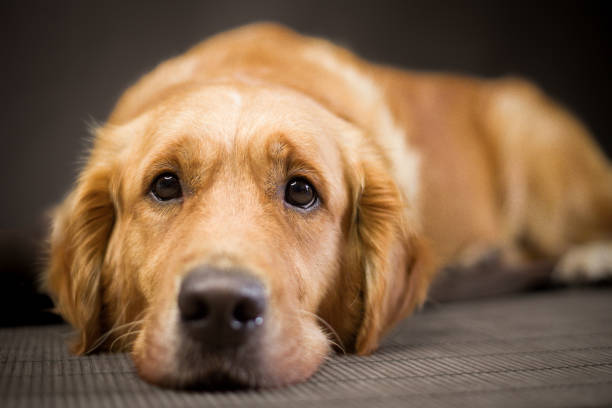dog: (11, 16, 607, 401)
